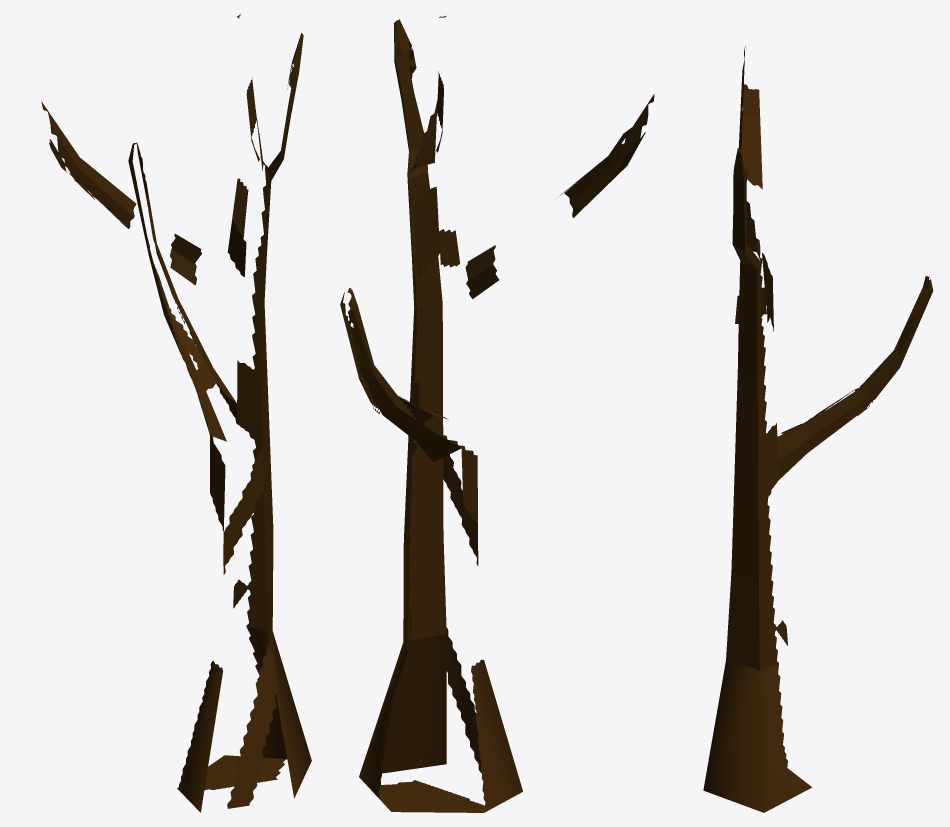
Rendered from drzewo7.obj.
3 renders of one model, left to right at view 1: azimuth 30°, elevation 25°; view 2: azimuth 150°, elevation 25°; view 3: azimuth 270°, elevation 25°, orthographic. The views are drawn at different scales.
Parts seen in each view (by area): view 1: Cylinder001; view 2: Cylinder001; view 3: Cylinder001.
Part boxes in pixels (x1,y1,x2,y2): Cylinder001: [41, 14, 311, 812]; Cylinder001: [340, 16, 654, 812]; Cylinder001: [703, 46, 933, 812].
Size of the model in its own units: 33.2 by 80.51 by 25.15.
